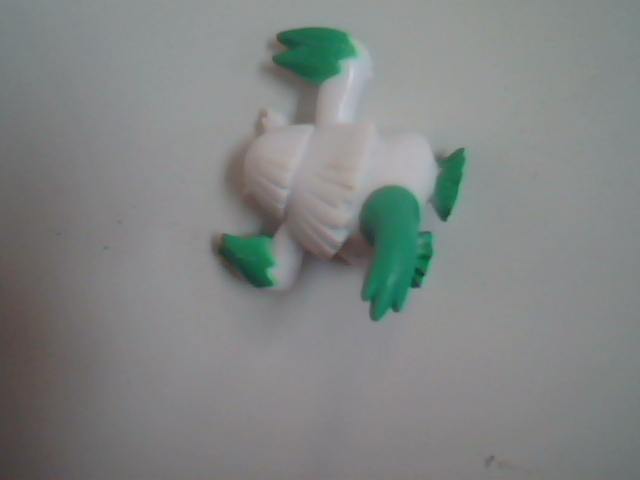abomasnow: (151, 20, 520, 358)
